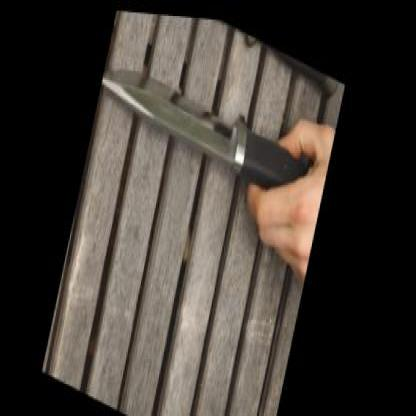knife: (82, 7, 317, 258), (146, 10, 268, 58)
